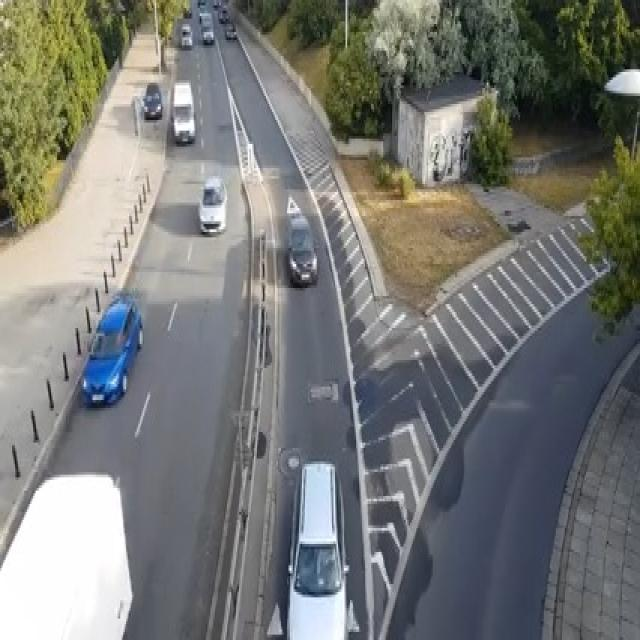bus: (0, 470, 134, 638), (284, 459, 348, 637)
car: (81, 291, 143, 405), (285, 213, 317, 286), (198, 173, 227, 235), (172, 80, 196, 144), (141, 83, 162, 117), (179, 21, 192, 48), (286, 195, 300, 216), (202, 21, 214, 43), (198, 11, 212, 24), (225, 22, 236, 38), (218, 6, 228, 22), (183, 5, 191, 16), (212, 0, 221, 8), (197, 0, 206, 5)
